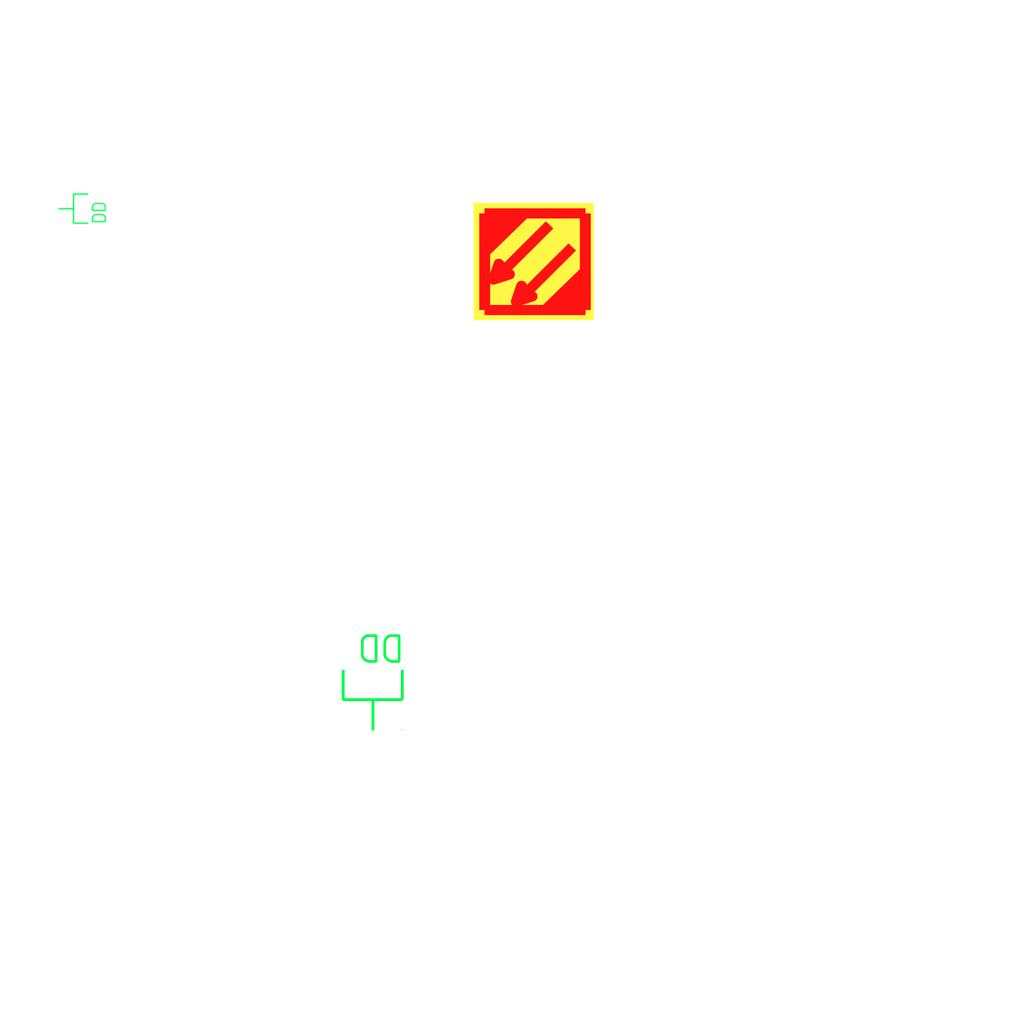ASR_Ansaugrauchmelder: (471, 199, 596, 324)
Datenanschluss_zweifach: (339, 630, 408, 733), (57, 192, 108, 226)
